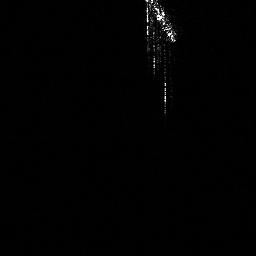ship: (142, 1, 180, 117)
